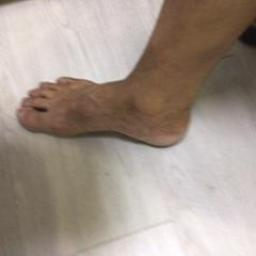Medial View -Right Foot-: (12, 46, 205, 156)
